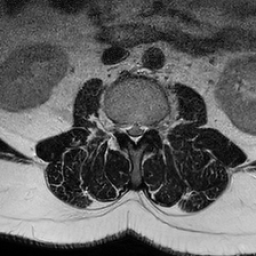CCS_normal: (131, 116, 138, 152)
LFS_stenosis: (147, 114, 155, 137)
LLS_normal: (138, 116, 147, 142)
RFS_normal: (115, 113, 123, 140)
RLS_normal: (123, 115, 131, 142)
